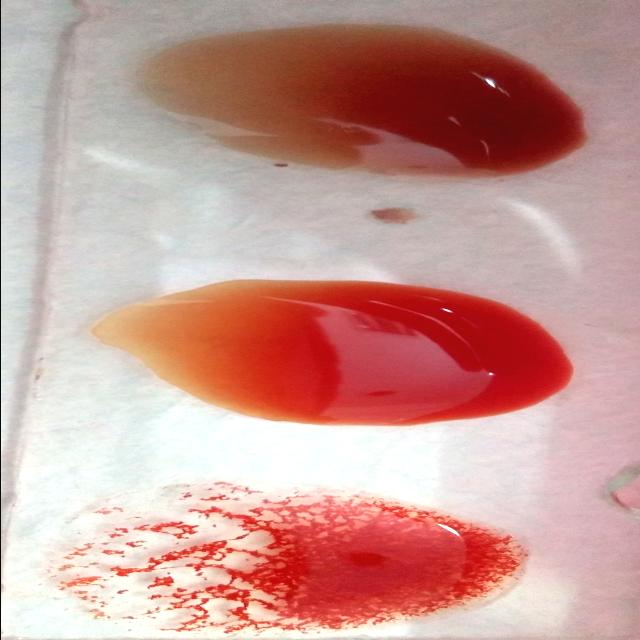D: (49, 482, 508, 639)
